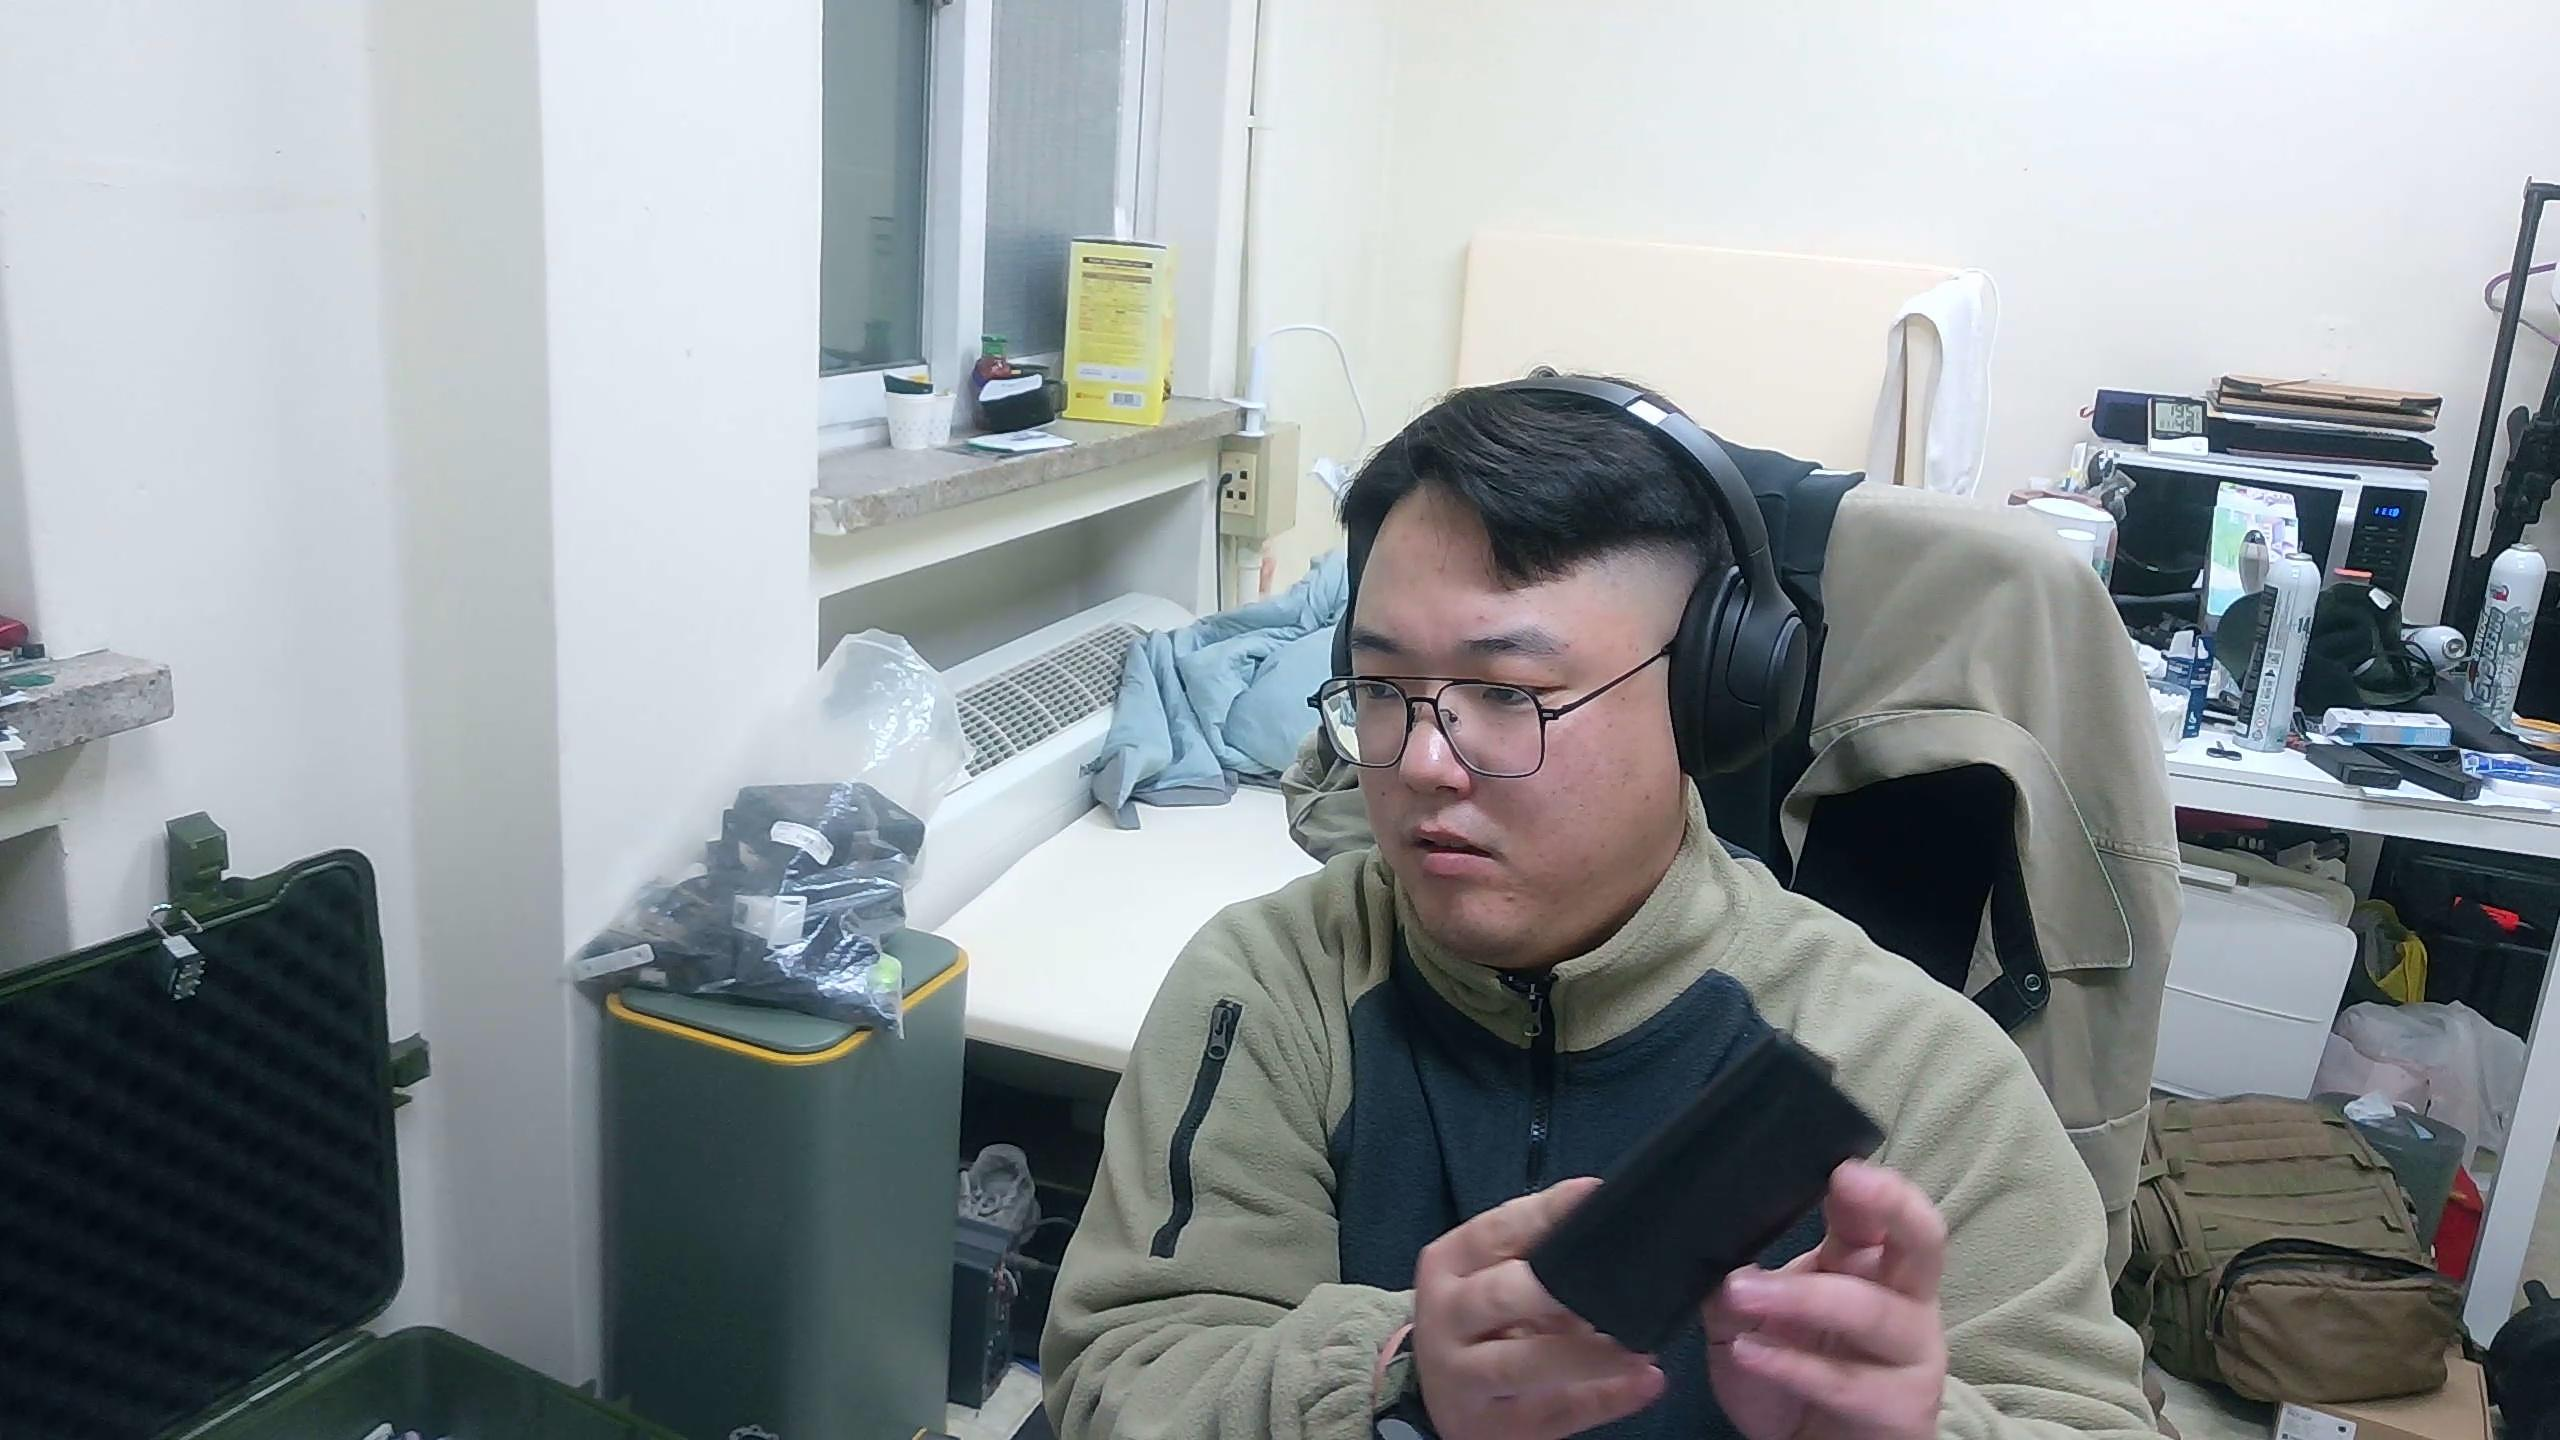Wallet: (1523, 1027, 1890, 1359)
